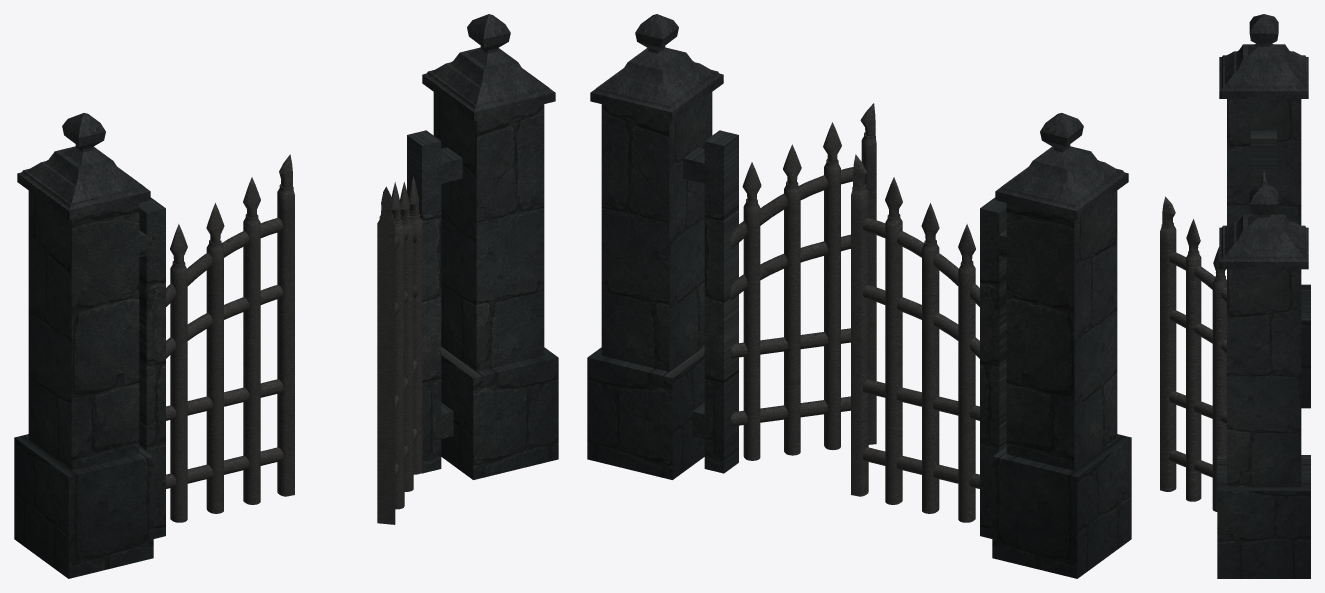
The model's file is PUERTA1_Asset.fbx.
3 views of the same model, side by side, from view 1: azimuth 30°, elevation 25°; view 2: azimuth 150°, elevation 25°; view 3: azimuth 270°, elevation 25° (orthographic). The views are drawn at different scales.
Parts seen in each view (by area): view 1: doorOpen.002, doorOpen.001; view 2: doorOpen.002, doorOpen.001; view 3: doorOpen.002, doorOpen.001.
Part boxes in pixels (x1,y1,x2,y2): doorOpen.002: [14, 14, 558, 578]; doorOpen.001: [166, 154, 422, 524]; doorOpen.002: [587, 14, 1131, 578]; doorOpen.001: [730, 103, 979, 522]; doorOpen.002: [1217, 14, 1310, 578]; doorOpen.001: [1160, 170, 1267, 511].
Bounding box in the file's own units: 222 × 189 × 68.54.
Materials: 2 (2 with a texture image).
